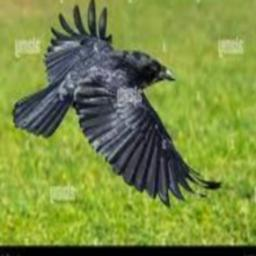Crow: (13, 0, 224, 208)
